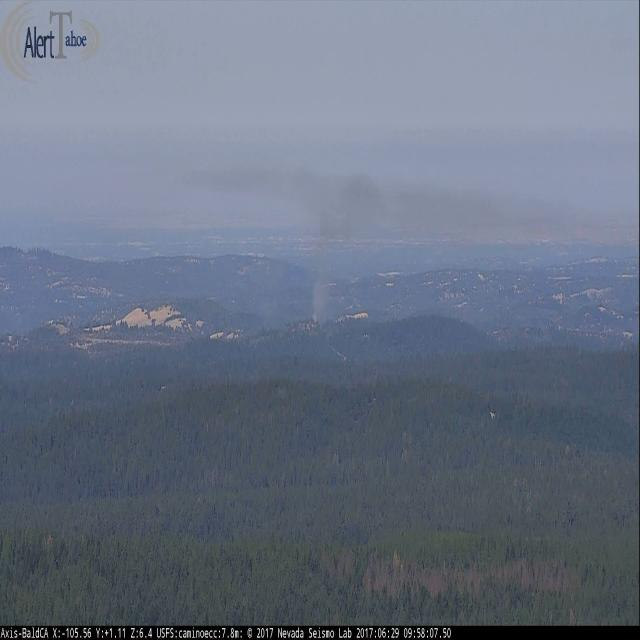smoke: (310, 270, 325, 321)
